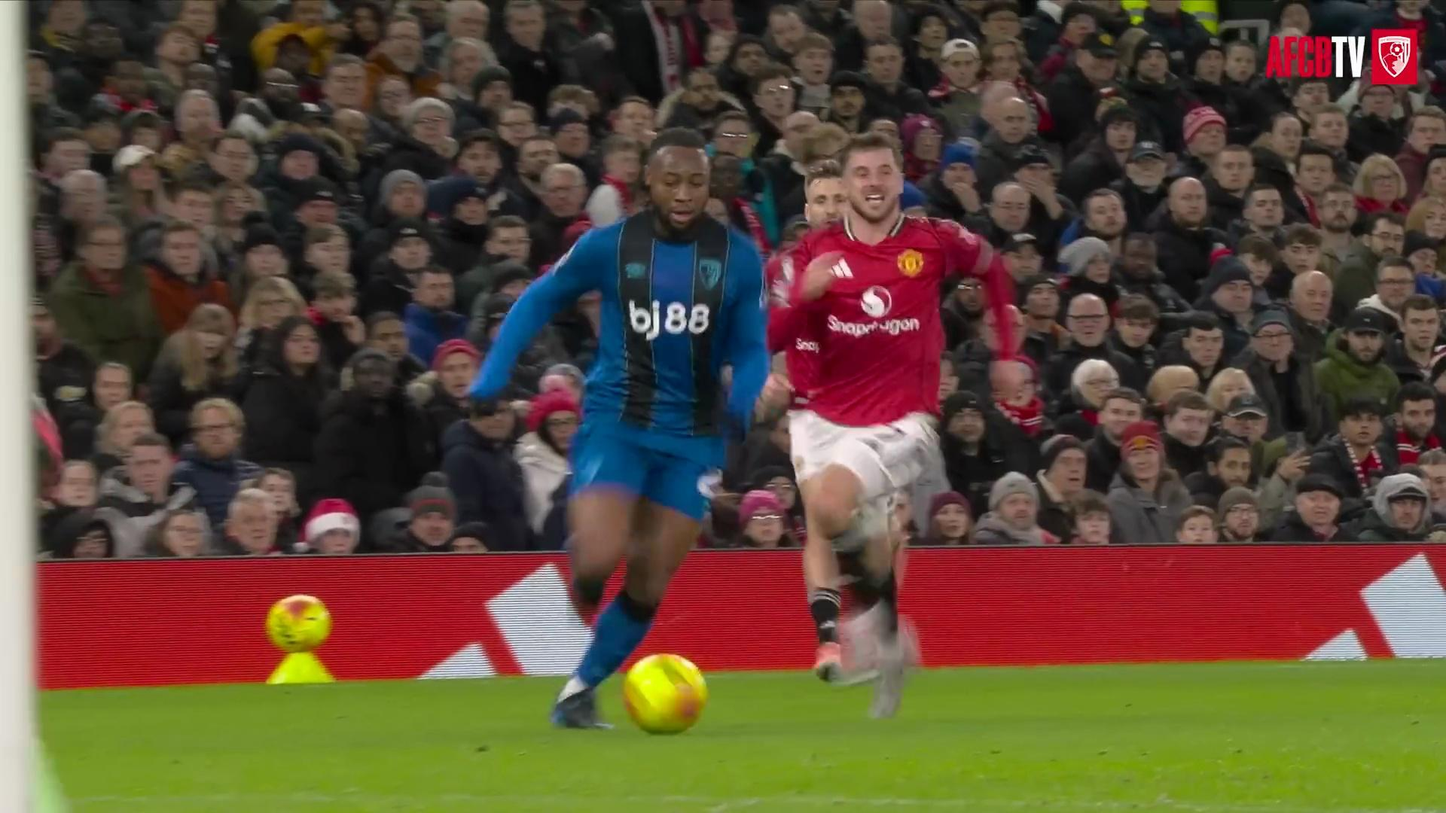football: (623, 654, 707, 733), (267, 595, 331, 652)
player: (471, 129, 769, 727), (789, 134, 1013, 716), (765, 252, 817, 416)
